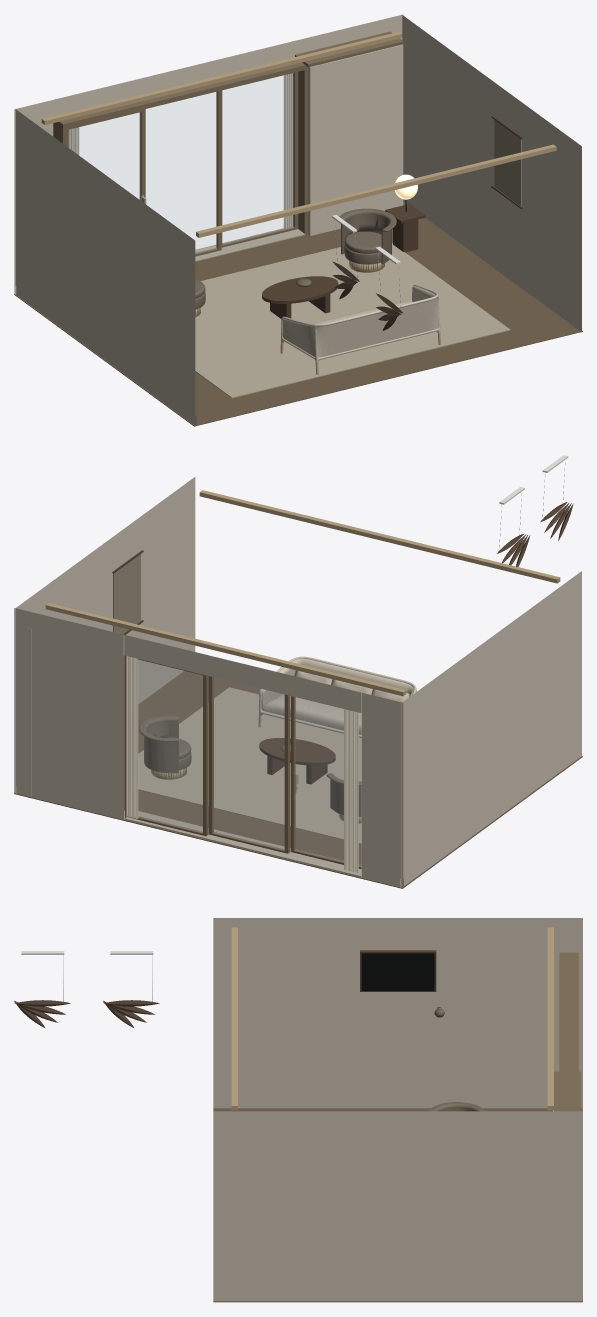
File: great-2.glb
The picture shows the model from 3 angles, top to bottom: view 1: azimuth 30°, elevation 25°; view 2: azimuth 150°, elevation 25°; view 3: azimuth 270°, elevation 25°; orthographic projection. The views are drawn at different scales.
Visible parts, largest first — view 1: DESIGN | great removable wall finish, DESIGN | Great room primary ground, DESIGN | great floor finish, DESIGN | R10 pocket enclosure face, DESIGN | R10 pocket panel 3 glass, DESIGN | R10 pocket panel 2 glass, DESIGN | Great room sofa facing conversation, DESIGN | R10 pocket panel 1 glass, DESIGN | Required Bellustar swivel chair two, DESIGN | Retreat concealed light edge.001, DESIGN | Retreat concealed light edge, DESIGN | R10 garden opening head (+9 smaller); view 2: DESIGN | great removable wall finish, DESIGN | Great room primary ground, DESIGN | R10 pocket panel 2 glass, DESIGN | R10 pocket panel 3 glass, DESIGN | great floor finish, DESIGN | R10 pocket panel 1 glass, DESIGN | Great room sofa facing conversation, DESIGN | Retreat concealed light edge, DESIGN | Retreat concealed light edge.001, DESIGN | Required Bellustar swivel chair two, DESIGN | Great room soft window edge, DESIGN | Great room soft window edge.001 (+10 smaller); view 3: DESIGN | great removable wall finish, DESIGN | R10 television inactive screen, DESIGN | R10 garden opening head, DESIGN | great floor finish, DESIGN | Retreat concealed light edge, DESIGN | Retreat concealed light edge.001, DESIGN | R10 pocket access cap, DESIGN | Required Flou pendant 2, DESIGN | Required Flou pendant 1, DESIGN | R10 television frame.
Part boxes in pixels (left/top/right/bottom): DESIGN | great removable wall finish: left=14, top=14, right=581, bottom=425; DESIGN | Great room primary ground: left=195, top=243, right=510, bottom=398; DESIGN | great floor finish: left=14, top=202, right=582, bottom=426; DESIGN | R10 pocket enclosure face: left=308, top=44, right=402, bottom=235; DESIGN | R10 pocket panel 3 glass: left=222, top=73, right=293, bottom=244; DESIGN | R10 pocket panel 2 glass: left=146, top=92, right=216, bottom=253; DESIGN | Great room sofa facing conversation: left=280, top=284, right=440, bottom=374; DESIGN | R10 pocket panel 1 glass: left=69, top=112, right=140, bottom=199; DESIGN | Required Bellustar swivel chair two: left=339, top=208, right=396, bottom=272; DESIGN | Retreat concealed light edge.001: left=41, top=31, right=402, bottom=124; DESIGN | Retreat concealed light edge: left=196, top=144, right=556, bottom=237; DESIGN | R10 garden opening head: left=58, top=62, right=307, bottom=128; DESIGN | great removable wall finish: left=14, top=477, right=581, bottom=887; DESIGN | Great room primary ground: left=138, top=687, right=361, bottom=844; DESIGN | R10 pocket panel 2 glass: left=213, top=677, right=284, bottom=849; DESIGN | R10 pocket panel 3 glass: left=138, top=660, right=202, bottom=832; DESIGN | great floor finish: left=14, top=671, right=582, bottom=888; DESIGN | R10 pocket panel 1 glass: left=295, top=697, right=361, bottom=865; DESIGN | Great room sofa facing conversation: left=258, top=656, right=416, bottom=737; DESIGN | Retreat concealed light edge: left=199, top=490, right=560, bottom=583; DESIGN | Retreat concealed light edge.001: left=45, top=603, right=406, bottom=696; DESIGN | Required Bellustar swivel chair two: left=139, top=715, right=191, bottom=779; DESIGN | Great room soft window edge: left=344, top=709, right=358, bottom=873; DESIGN | Great room soft window edge.001: left=126, top=656, right=138, bottom=819; DESIGN | great removable wall finish: left=213, top=918, right=582, bottom=1301; DESIGN | R10 television inactive screen: left=361, top=953, right=434, bottom=990; DESIGN | R10 garden opening head: left=559, top=952, right=578, bottom=1071; DESIGN | great floor finish: left=213, top=1108, right=582, bottom=1302; DESIGN | Retreat concealed light edge: left=231, top=927, right=237, bottom=1110; DESIGN | Retreat concealed light edge.001: left=547, top=927, right=553, bottom=1110; DESIGN | R10 pocket access cap: left=554, top=1071, right=581, bottom=1111; DESIGN | Required Flou pendant 2: left=103, top=1000, right=159, bottom=1027; DESIGN | Required Flou pendant 1: left=14, top=1000, right=70, bottom=1028; DESIGN | R10 television frame: left=360, top=950, right=436, bottom=991.
Size of the model in its own units: 6 by 3.04 by 7.42.
